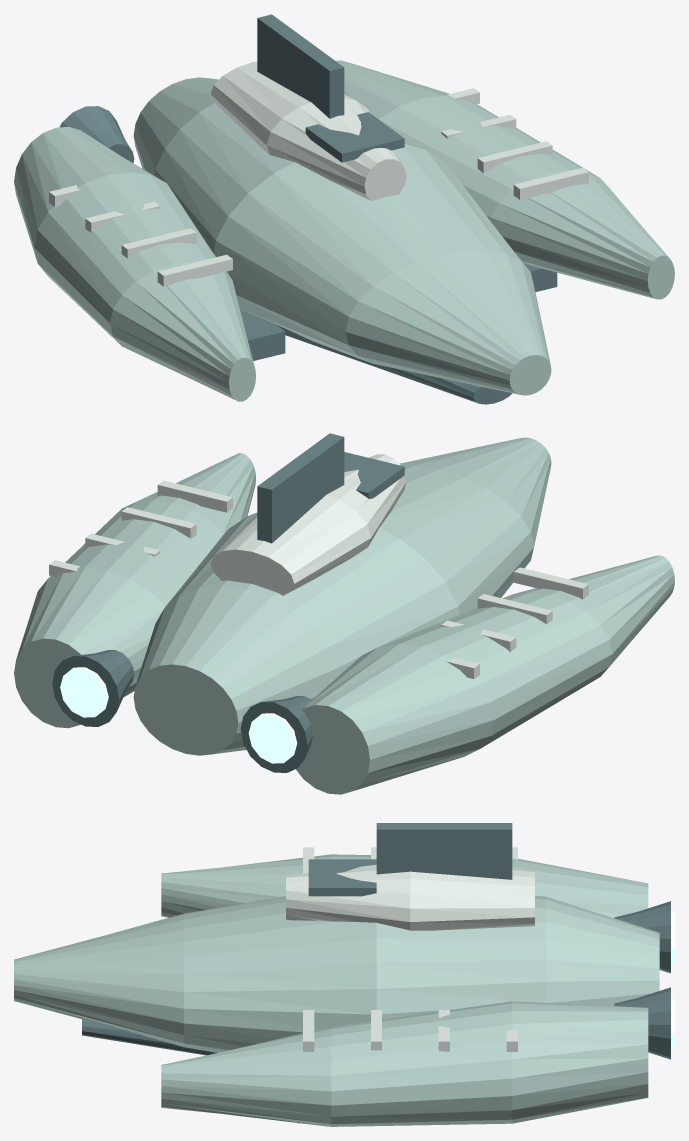
The picture shows the model from 3 angles, top to bottom: view 1: azimuth 30°, elevation 25°; view 2: azimuth 150°, elevation 25°; view 3: azimuth 270°, elevation 25°; orthographic projection. The views are drawn at different scales.
Bounding box in the file's own units: 9.6 × 4.6 × 11.67.
